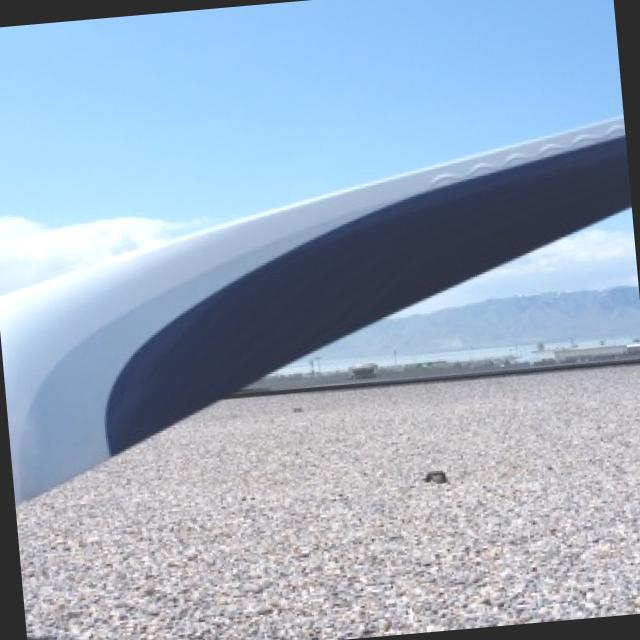healthy: (0, 118, 629, 501)
